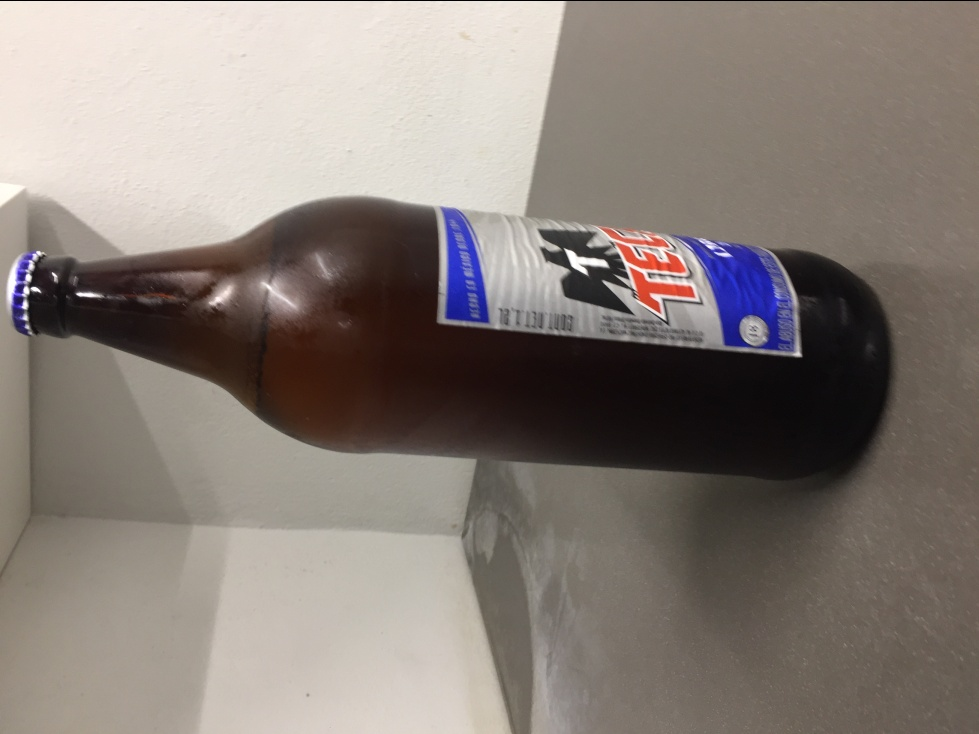tecateC: (16, 192, 889, 498)
